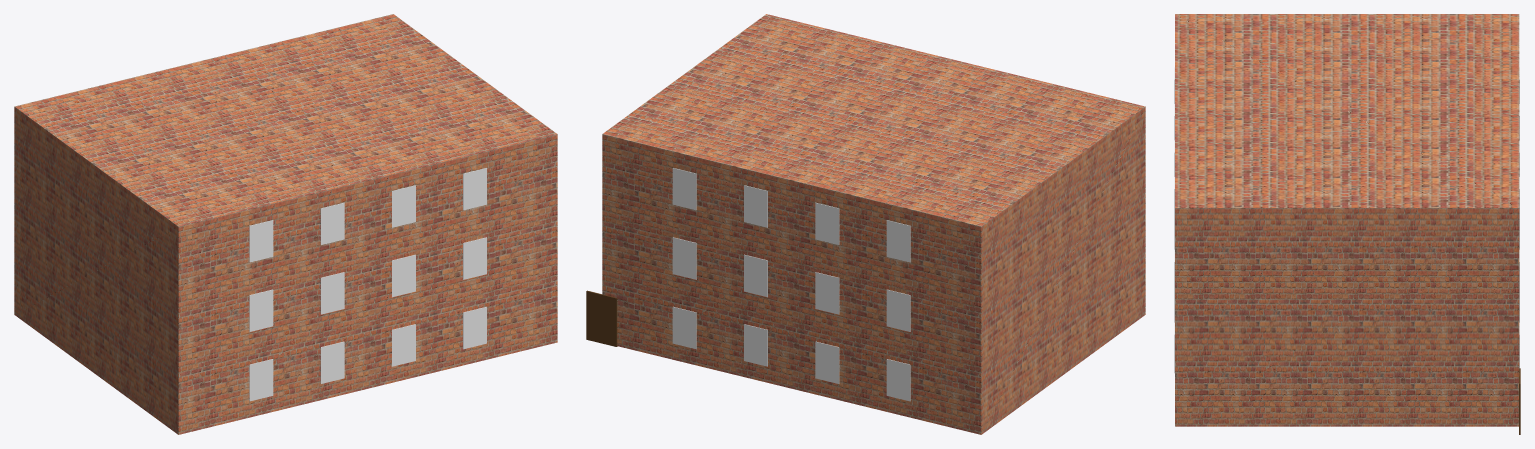
File: bld_mlddvjo9_rxc9wi9.glb
3 renders of one model, left to right at view 1: azimuth 30°, elevation 25°; view 2: azimuth 150°, elevation 25°; view 3: azimuth 270°, elevation 25°, orthographic. The views are drawn at different scales.
Visible parts, largest first — view 1: building-building-1770533392567, object 34, object 38, object 18, object 2, object 6, object 22, object 30, object 10, object 14, object 26, object 42 (+1 smaller); view 2: building-building-1770533392567, object 20, object 32, object 40, object 16, object 36, object 4, object 24, object 48, object 8, object 12, object 44 (+1 smaller); view 3: building-building-1770533392567.
Part boxes in pixels (x1,y1,x2,y2): building-building-1770533392567: (14, 14, 557, 434); object 34: (249, 220, 273, 262); object 38: (320, 202, 344, 244); object 18: (249, 289, 273, 331); object 2: (249, 359, 273, 401); object 6: (320, 341, 344, 383); object 22: (320, 272, 344, 314); object 30: (463, 237, 486, 279); object 10: (392, 324, 415, 366); object 14: (463, 306, 486, 349); object 26: (392, 254, 415, 297); object 42: (392, 185, 415, 227); building-building-1770533392567: (586, 14, 1145, 434); object 20: (886, 289, 910, 331); object 32: (672, 237, 696, 279); object 40: (815, 202, 839, 244); object 16: (672, 306, 696, 349); object 36: (886, 220, 910, 262); object 4: (886, 359, 910, 401); object 24: (815, 272, 839, 314); object 48: (672, 168, 696, 210); object 8: (815, 341, 839, 383); object 12: (744, 324, 767, 366); object 44: (744, 185, 767, 227); building-building-1770533392567: (1175, 14, 1520, 434).
Size of the model in its own units: 20.8 by 10.53 by 15.08.
5 materials, 1 textured.
